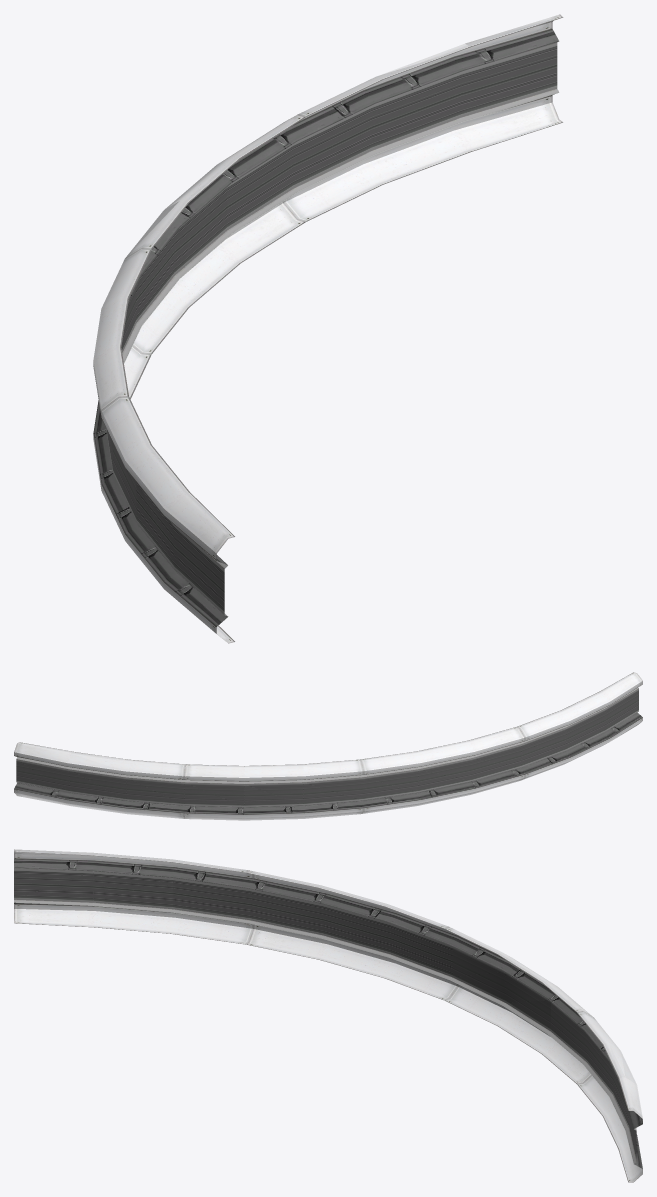
Rendered from Emb_Window_03_Rail.FBX.
3 views of the same model, one above another, from view 1: azimuth 30°, elevation 25°; view 2: azimuth 150°, elevation 25°; view 3: azimuth 270°, elevation 25° (orthographic). The views are drawn at different scales.
Visible parts, largest first — view 1: Emb_Window_03_Rail; view 2: Emb_Window_03_Rail; view 3: Emb_Window_03_Rail.
Boxes of the visible parts, left/top/right/bottom form: Emb_Window_03_Rail: left=93, top=14, right=563, bottom=643; Emb_Window_03_Rail: left=14, top=672, right=642, bottom=820; Emb_Window_03_Rail: left=14, top=849, right=642, bottom=1182.
Bounding box in the file's own units: 10.37 × 1.3 × 10.38.
